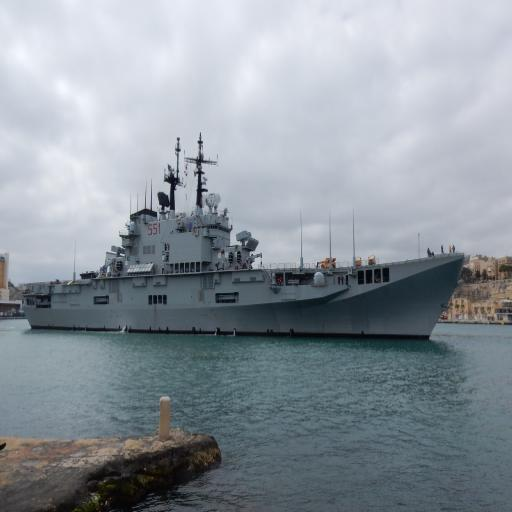Portanaves: (18, 123, 468, 348)
